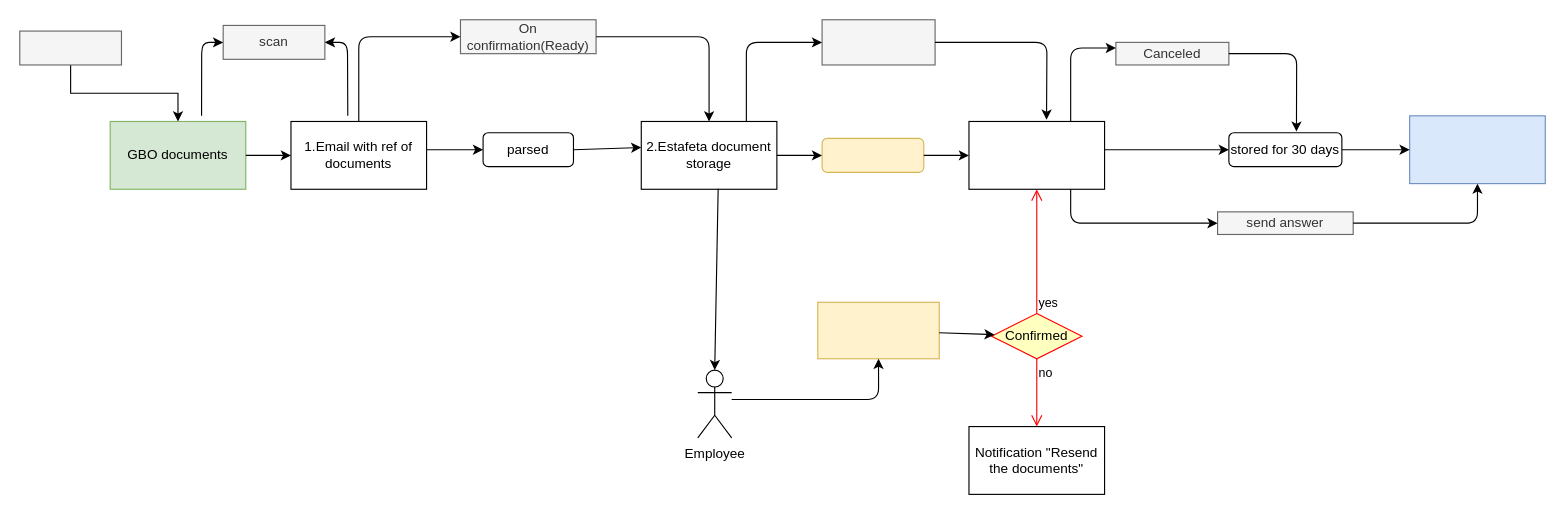
Some shapes in this 1565 by 514 pixel diagram are drawn without their labels. The centre of each missing label's shape, as x and y in pixels:
"3.Vehicle (documents)" goes at (1036,154).
"4.DMS" goes at (1477,149).
"check document add atributes" goes at (878,330).
"Confirmed (In progress)" goes at (878,42).
"New" goes at (70,47).
"VIN and data" goes at (872,154).
